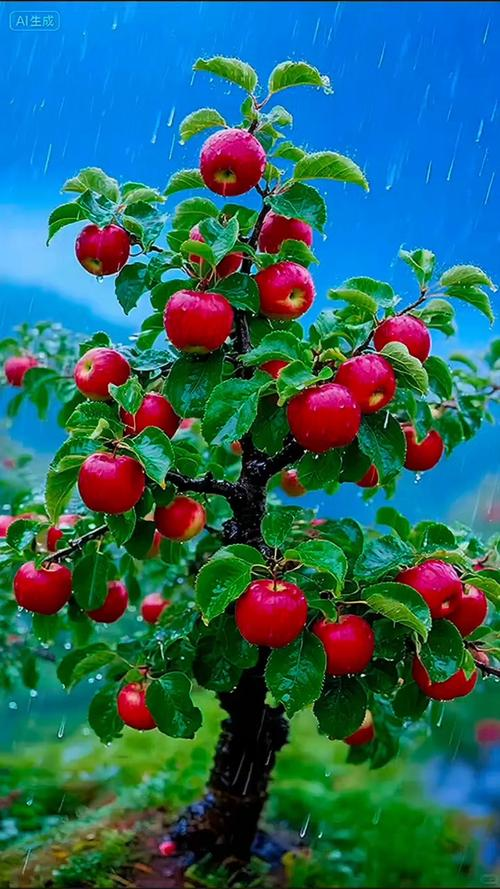ripe: (161, 274, 243, 358), (193, 120, 274, 204), (288, 370, 363, 454), (367, 295, 438, 381), (333, 345, 404, 426), (429, 544, 488, 637), (234, 572, 306, 646), (256, 252, 329, 324), (75, 433, 134, 513), (415, 637, 483, 703), (311, 608, 379, 674), (111, 669, 177, 737), (11, 547, 70, 615), (75, 215, 129, 286), (399, 551, 451, 619), (256, 206, 322, 256), (66, 340, 129, 392), (154, 490, 209, 547), (397, 417, 454, 469)
